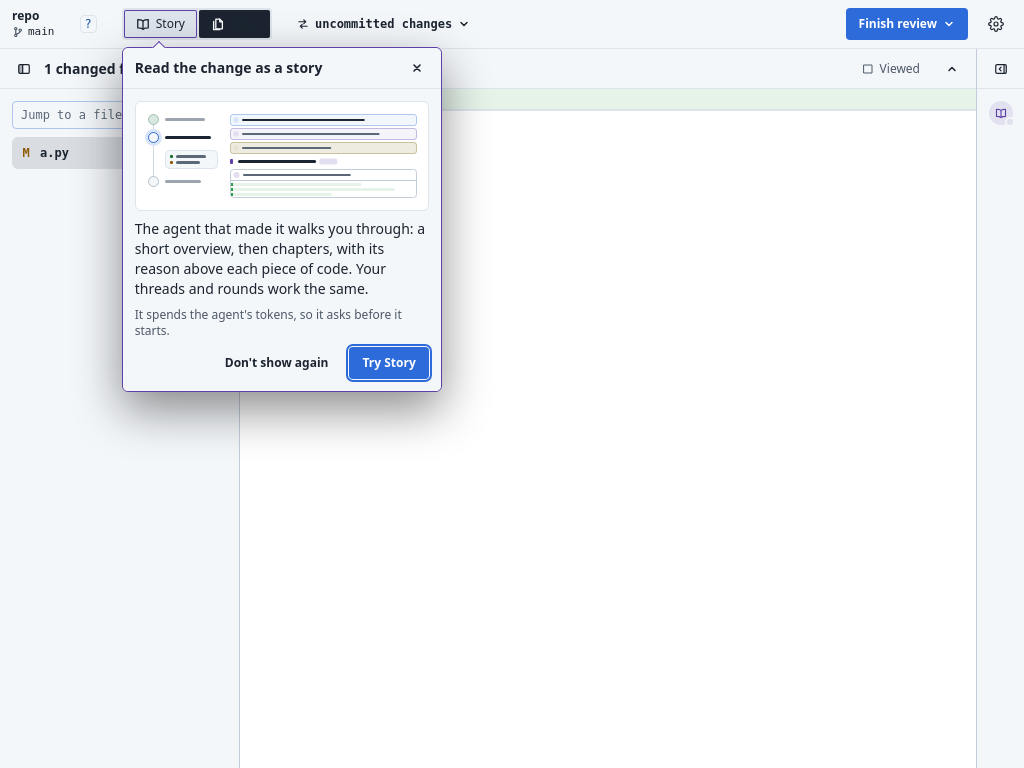
it: Story introduced at the switch › is put away for this review by its cross, and nothing is kept
This screenshot has width=1024, height=768.
Click the button with test id "story-introduction-close". click: (417, 68)
box: x1=405 y1=56 x2=429 y2=80
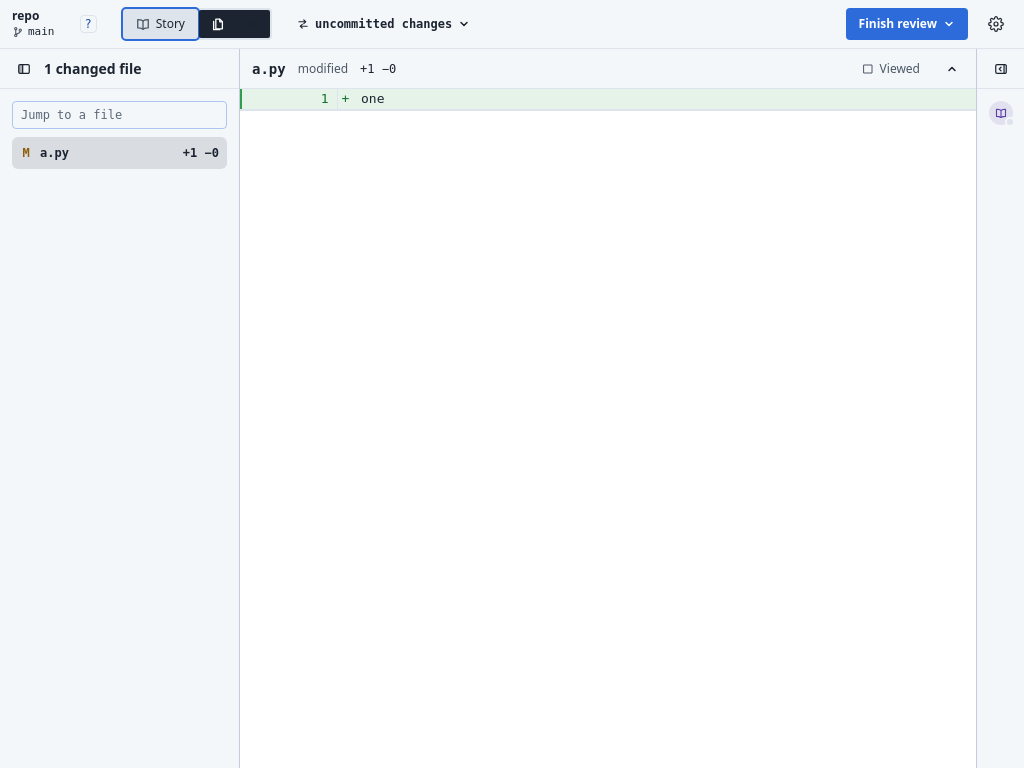
Now the dialog with test id "story-introduction" is gone
